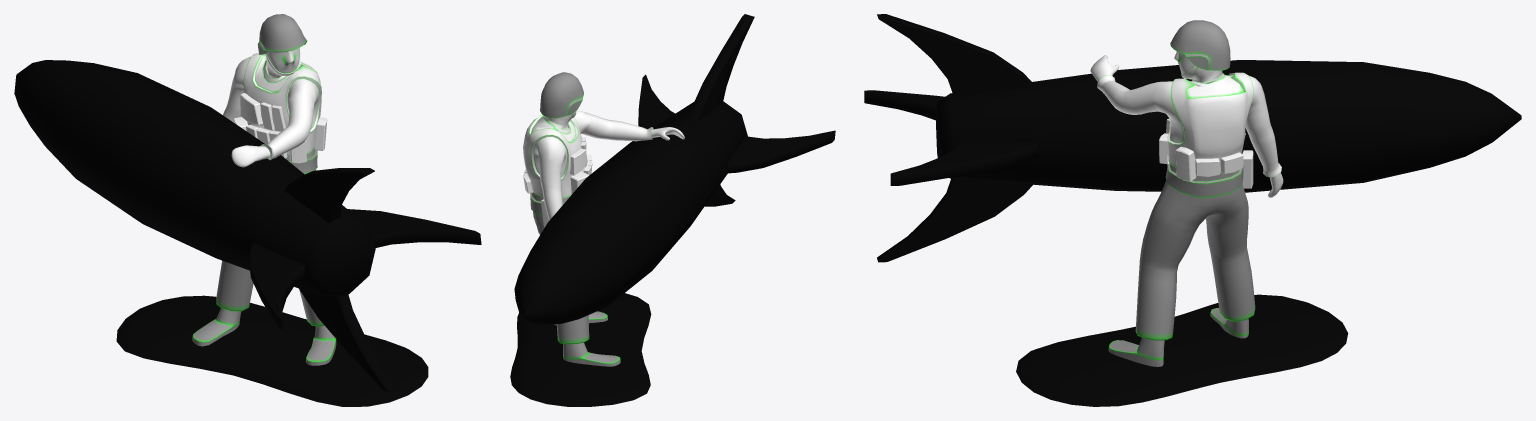
File: Ranged_Enemy_02_MSH.fbx
3 views of the same model, side by side, from view 1: azimuth 30°, elevation 25°; view 2: azimuth 150°, elevation 25°; view 3: azimuth 270°, elevation 25° (orthographic). The views are drawn at different scales.
Parts seen in each view (by area): view 1: Ranged_Enemy_02; view 2: Ranged_Enemy_02; view 3: Ranged_Enemy_02.
Boxes of the visible parts, left/top/right/bottom form: Ranged_Enemy_02: left=14, top=14, right=481, bottom=406; Ranged_Enemy_02: left=510, top=14, right=835, bottom=406; Ranged_Enemy_02: left=864, top=14, right=1521, bottom=406.
Size of the model in its own units: 156 by 193 by 339.
